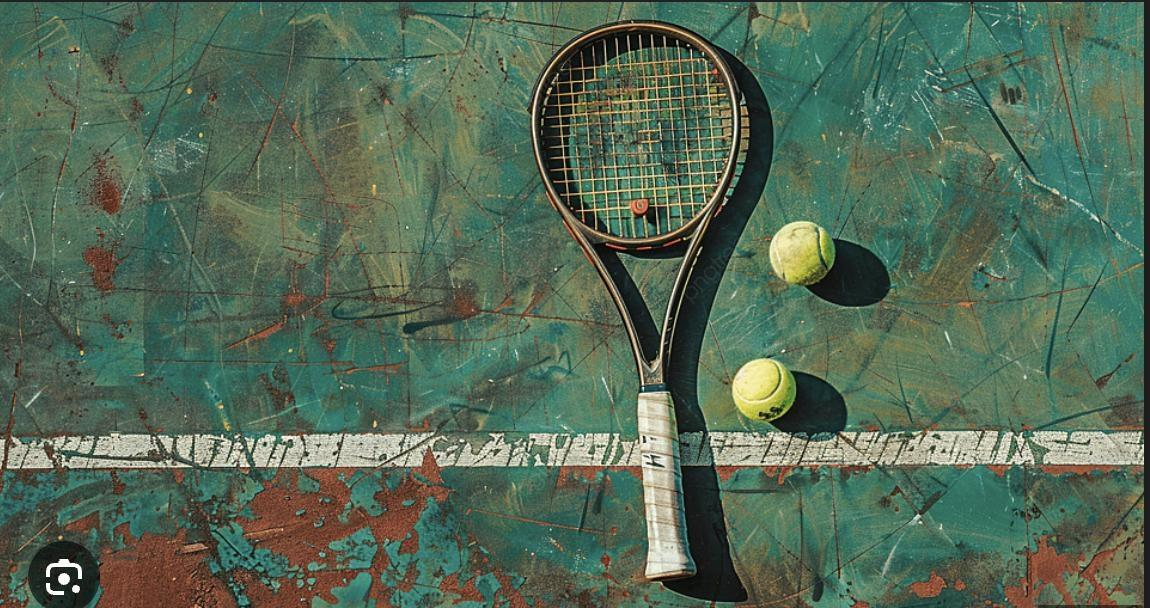Tennis-Racket: (532, 20, 742, 580)
